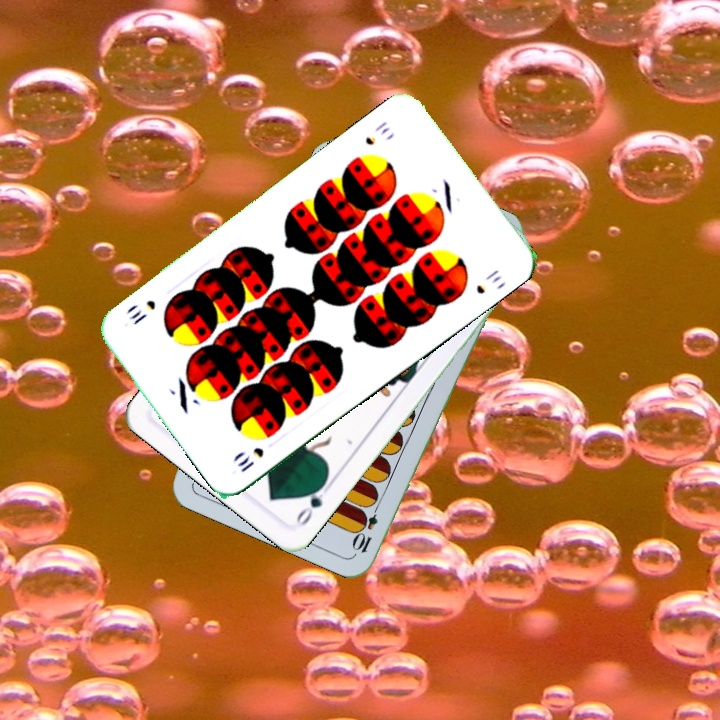E10: (350, 498, 383, 556)
GO: (291, 476, 335, 529)
S10: (233, 443, 267, 475), (361, 117, 393, 148)
